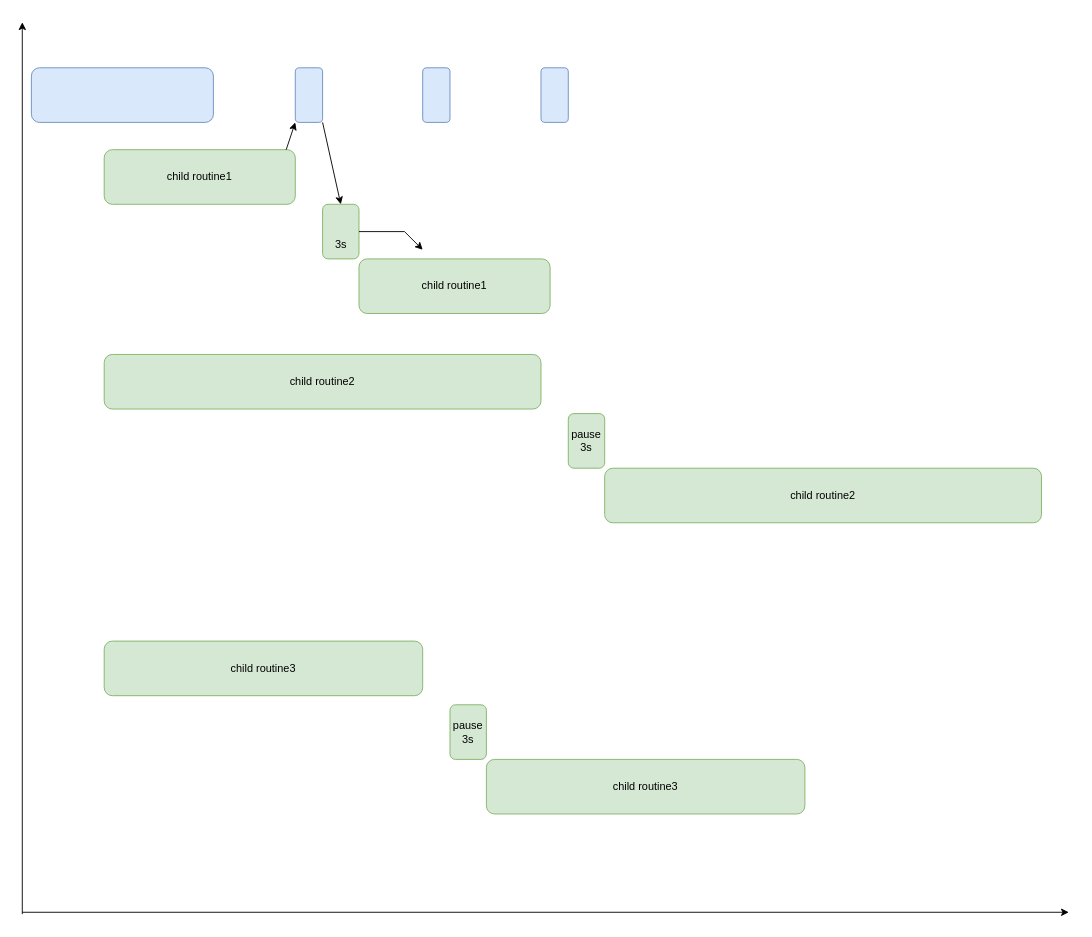
The diagram is 1092 pixels wide and 937 high, and some of its shapes have lost their labels. Each missing label, with the box of its shape:
Main routine: (30, 67, 213, 122)
pause: (322, 203, 359, 259)
